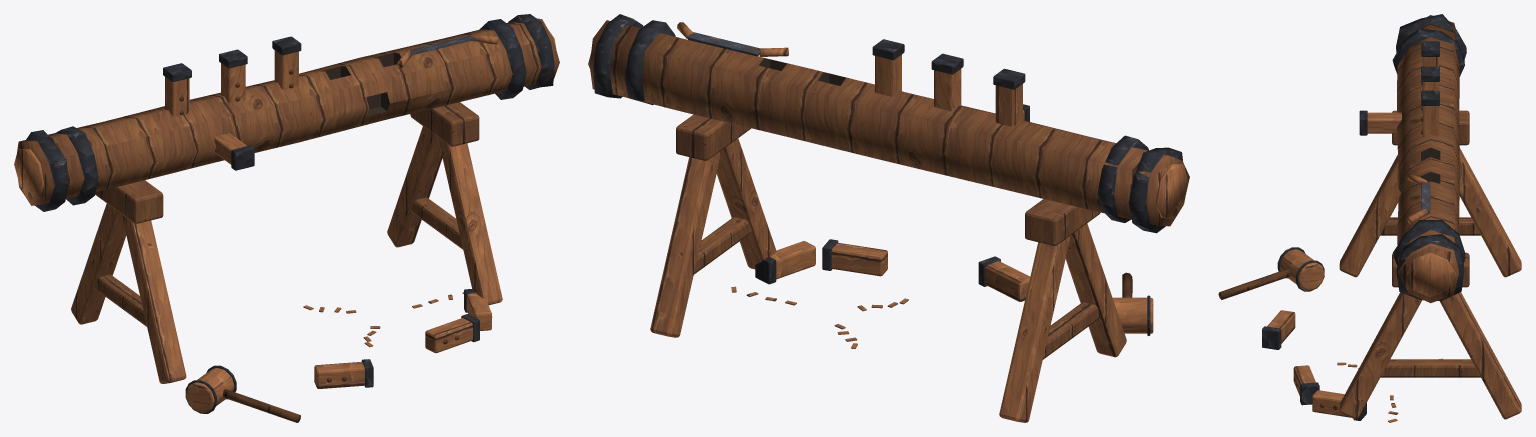
Rendered from hw_spare_shaft.glb.
The picture shows the model from 3 angles, left to right: view 1: azimuth 30°, elevation 25°; view 2: azimuth 150°, elevation 25°; view 3: azimuth 270°, elevation 25°; orthographic projection. The views are drawn at different scales.
Parts seen in each view (by area): view 1: model; view 2: model; view 3: model.
Boxes of the visible parts, x1=… form: model: x1=14, y1=14, x2=559, y2=422; model: x1=588, y1=14, x2=1189, y2=422; model: x1=1218, y1=14, x2=1521, y2=422.
Size of the model in its own units: 2.12 by 1.09 by 1.17.
Materials: 6 (5 with a texture image).
